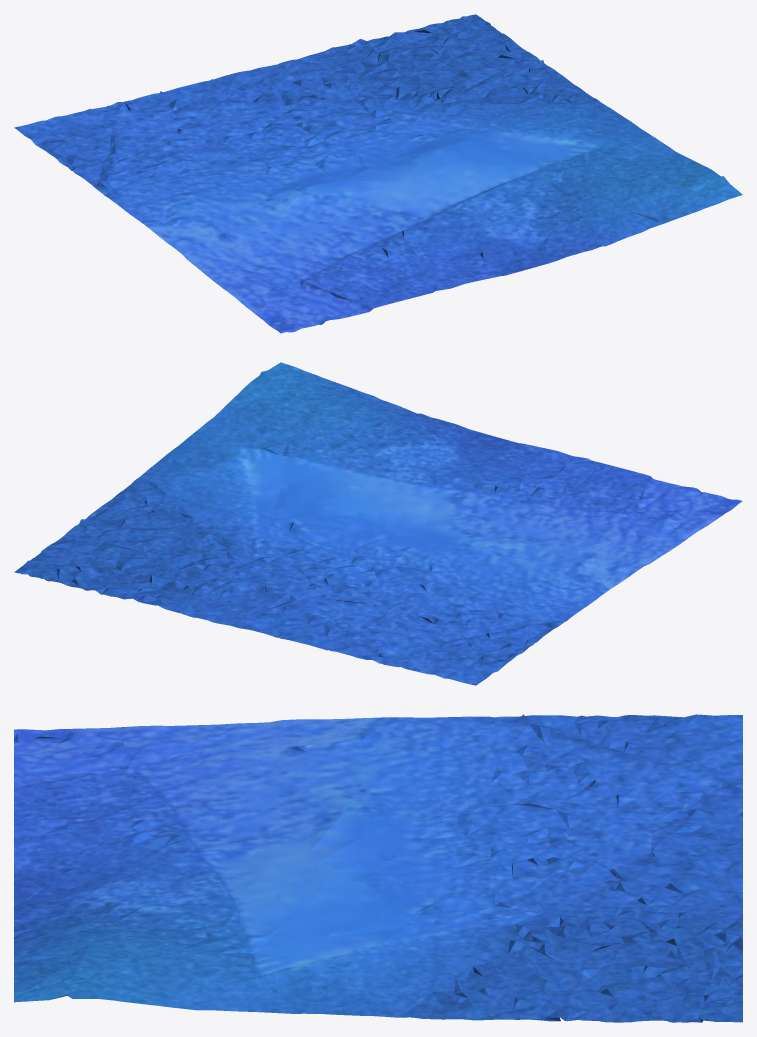
3 renders of one model, top to bottom at view 1: azimuth 30°, elevation 25°; view 2: azimuth 150°, elevation 25°; view 3: azimuth 270°, elevation 25°, orthographic. The views are drawn at different scales.
Size of the model in its own units: 13.06 by 0.8708 by 13.06.
3 materials, 3 textured.
